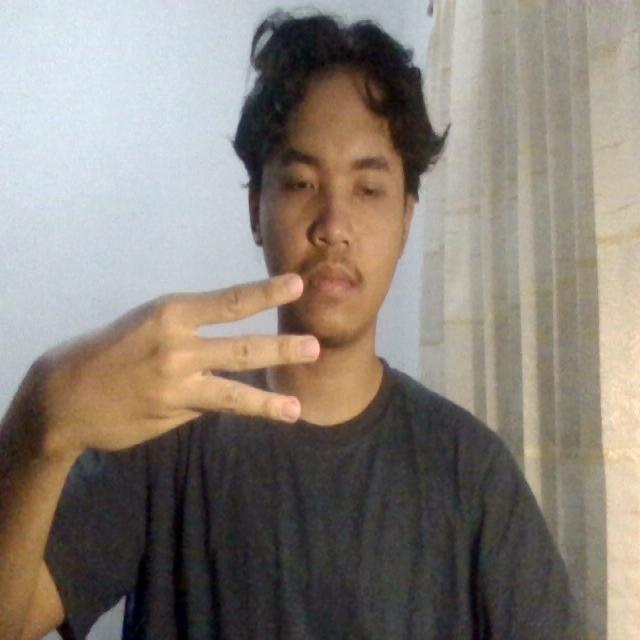E: (73, 248, 332, 480)
